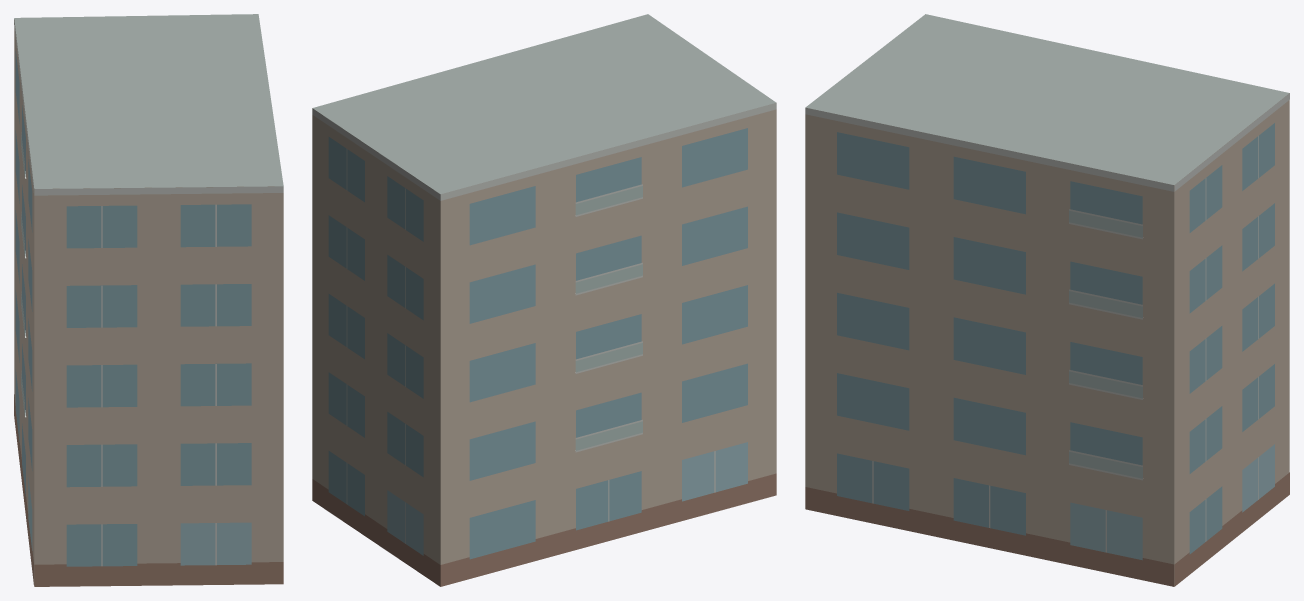
The model's file is survey-upis-32684102.glb.
3 renders of one model, left to right at view 1: azimuth 30°, elevation 25°; view 2: azimuth 150°, elevation 25°; view 3: azimuth 270°, elevation 25°, orthographic. The views are drawn at different scales.
Visible parts, largest first — view 1: survey-upis-32684102.tmp; view 2: survey-upis-32684102.tmp; view 3: survey-upis-32684102.tmp.
Part boxes in pixels (left/top/right/bottom): survey-upis-32684102.tmp: left=14, top=14, right=283, bottom=586; survey-upis-32684102.tmp: left=312, top=14, right=776, bottom=586; survey-upis-32684102.tmp: left=805, top=14, right=1289, bottom=586.
Bounding box in the file's own units: 13.35 × 14.6 × 15.97.
